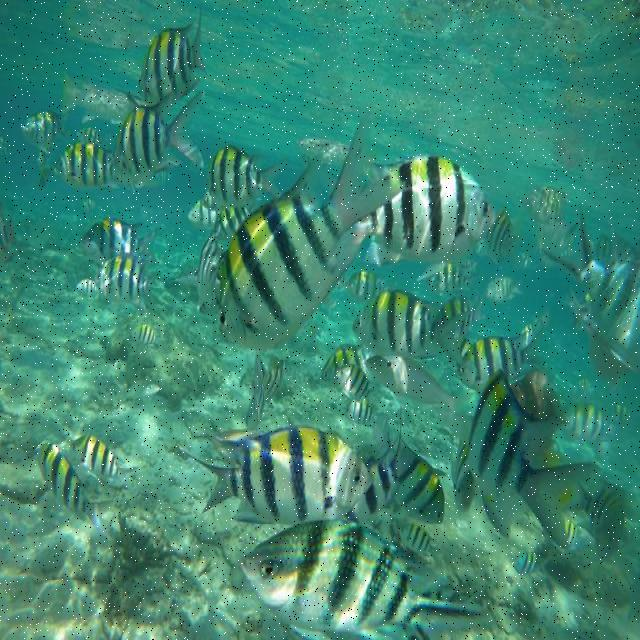fish: (216, 107, 412, 350), (240, 520, 495, 639), (467, 370, 600, 548), (177, 426, 372, 525), (353, 155, 496, 260), (118, 77, 203, 188), (353, 291, 466, 365), (36, 441, 112, 541), (363, 355, 464, 421), (383, 419, 446, 524), (97, 256, 160, 306)
